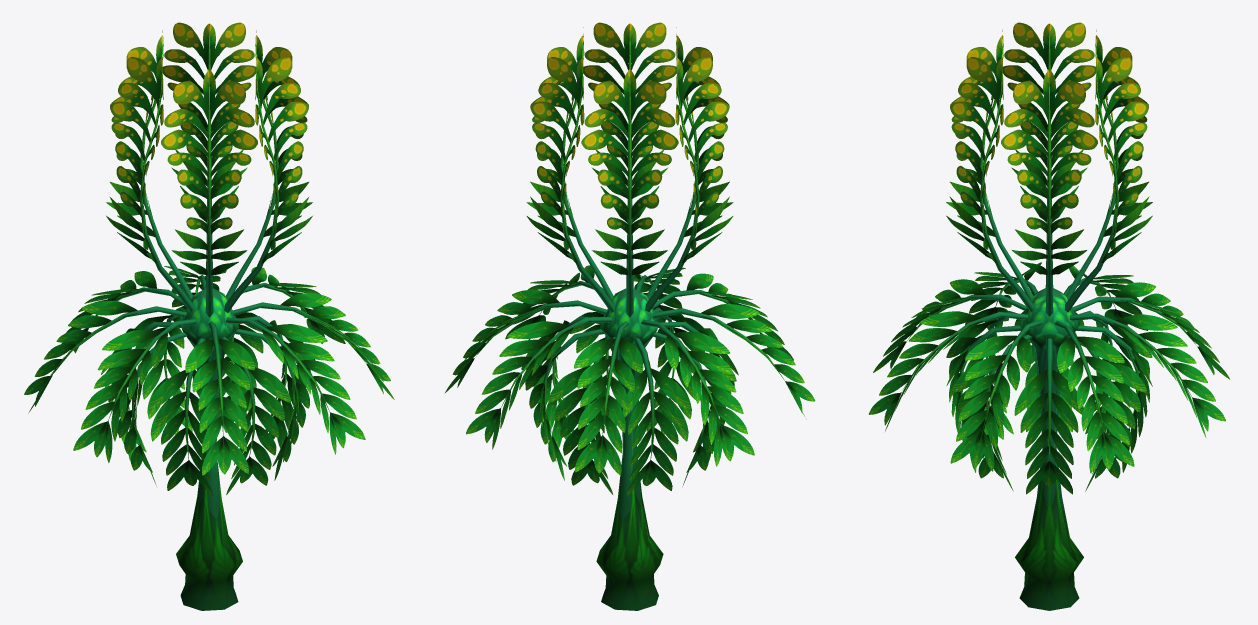
The model's file is Green_Tree_06c.FBX.
3 renders of one model, left to right at view 1: azimuth 30°, elevation 25°; view 2: azimuth 150°, elevation 25°; view 3: azimuth 270°, elevation 25°, orthographic.
Visible parts, largest first — view 1: Green_Tree_06c; view 2: Green_Tree_06c; view 3: Green_Tree_06c.
Part boxes in pixels (left/top/right/bottom): Green_Tree_06c: left=24, top=22, right=394, bottom=610; Green_Tree_06c: left=445, top=22, right=815, bottom=610; Green_Tree_06c: left=868, top=22, right=1229, bottom=610.
Bounding box in the file's own units: 318 × 497 × 318.
